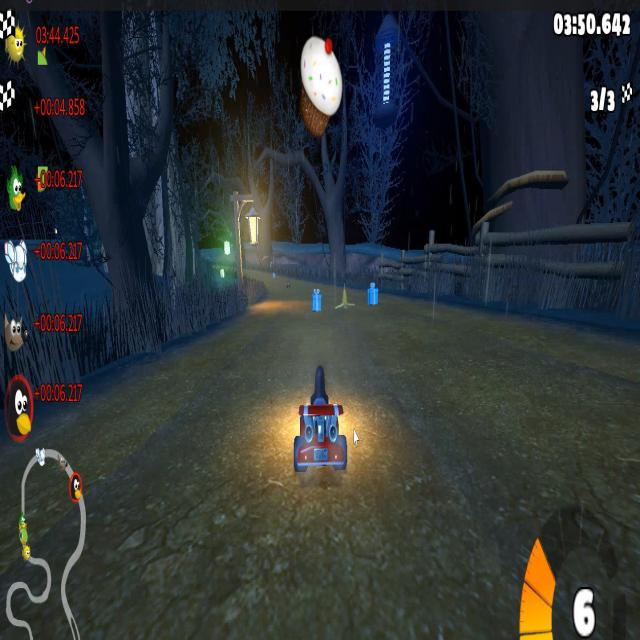player_kart: (287, 370, 346, 476)
track: (343, 385, 635, 640), (0, 443, 285, 640), (249, 317, 587, 387), (101, 366, 283, 438), (286, 473, 340, 639), (266, 276, 307, 320), (212, 332, 250, 370), (249, 288, 268, 318)
